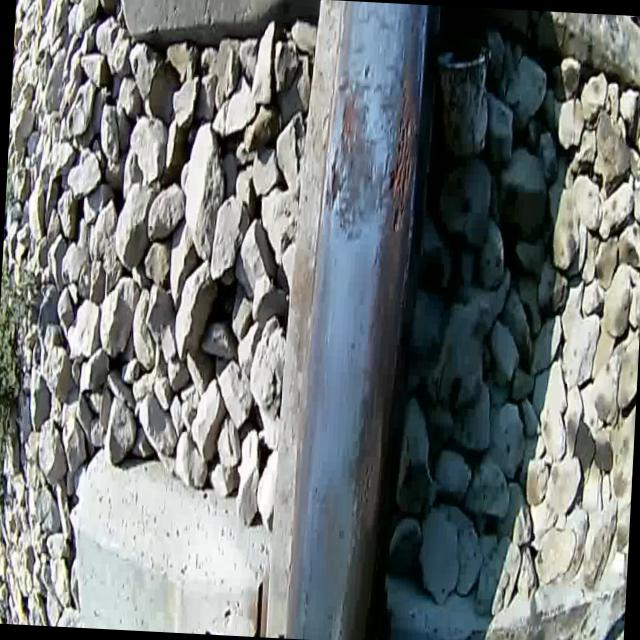Spallings: (384, 66, 422, 241)
Squats: (376, 20, 426, 318), (322, 56, 396, 254), (302, 474, 358, 626), (351, 392, 386, 546)
